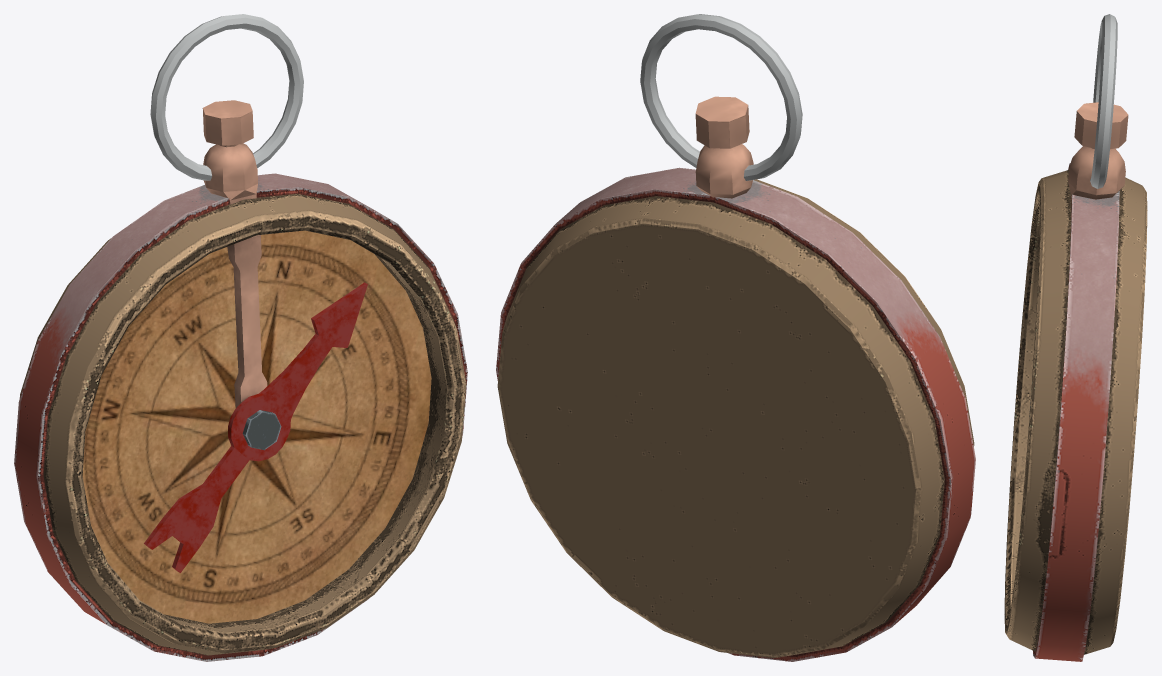
Rendered from Compass.fbx.
The picture shows the model from 3 angles, left to right: view 1: azimuth 30°, elevation 25°; view 2: azimuth 150°, elevation 25°; view 3: azimuth 270°, elevation 25°; orthographic projection. The views are drawn at different scales.
Visible parts, largest first — view 1: main_2, arrow_0; view 2: main_2; view 3: main_2.
Part boxes in pixels (x1,y1,x2,y2): main_2: (14,14,467,661); arrow_0: (144,282,367,572); main_2: (496,14,975,661); main_2: (1004,14,1147,661).
Size of the model in its own units: 822 by 1124 by 236.
2 materials, 2 textured.
